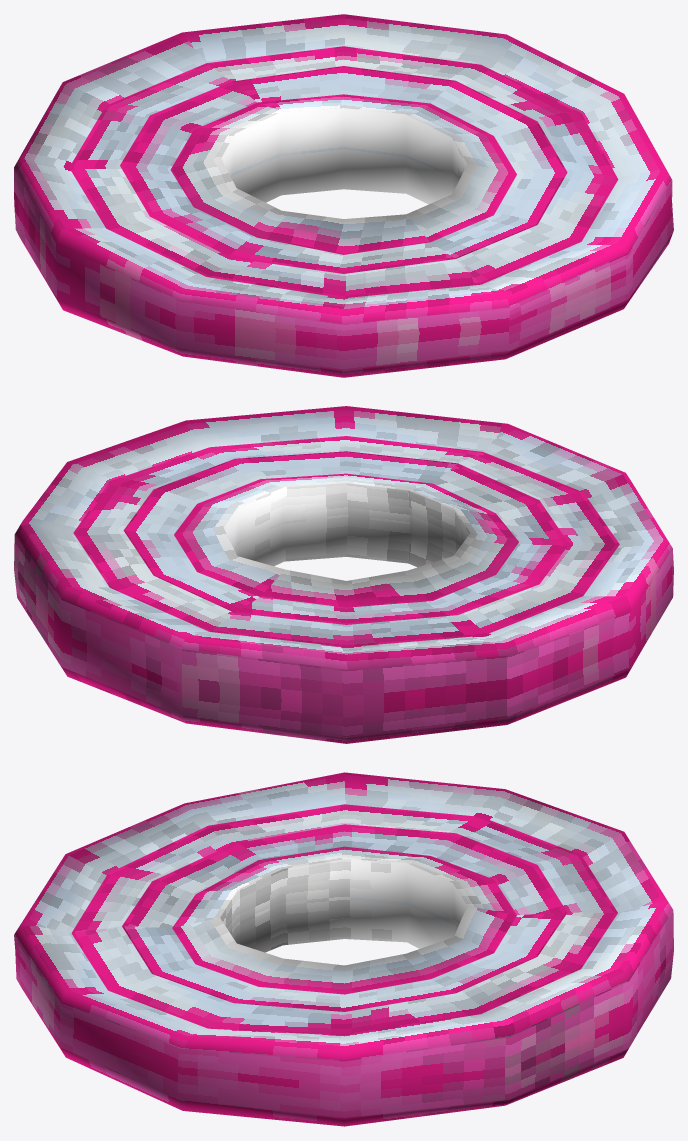
The model's file is onion.glb.
3 views of the same model, one above another, from view 1: azimuth 30°, elevation 25°; view 2: azimuth 150°, elevation 25°; view 3: azimuth 270°, elevation 25° (orthographic).
Parts seen in each view (by area): view 1: Circle; view 2: Circle; view 3: Circle.
Part boxes in pixels (x1,y1,x2,y2): Circle: [14, 14, 673, 377]; Circle: [14, 406, 673, 743]; Circle: [14, 772, 673, 1126].
Size of what is drawn, in the model's own units: 1.3 by 0.2021 by 1.31.
Materials: 1 (1 with a texture image).
